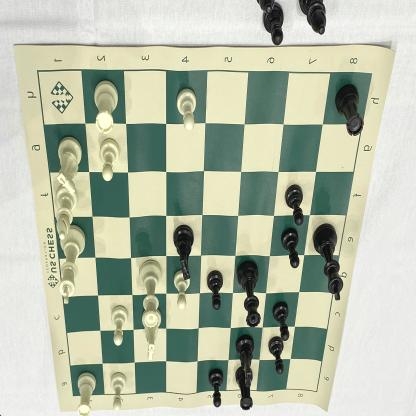black-king: (308, 222, 344, 305)
black-knight: (171, 222, 197, 281), (236, 335, 255, 389)
black-pawn: (284, 183, 305, 227), (280, 227, 301, 270), (204, 270, 224, 312), (207, 366, 226, 410), (268, 335, 286, 379), (273, 299, 291, 343)
black-queen: (234, 258, 262, 330)
black-rook: (335, 83, 365, 141), (234, 366, 256, 412)
white-bishop: (92, 77, 120, 135), (52, 184, 80, 241)
white-king: (56, 223, 88, 306)
white-knight: (54, 136, 84, 196), (140, 308, 162, 364)
white-pawn: (95, 136, 123, 184), (172, 87, 198, 135), (109, 304, 130, 349), (107, 371, 128, 414), (172, 268, 190, 311)
white-queen: (134, 258, 166, 328)
white-rook: (72, 370, 98, 416)
